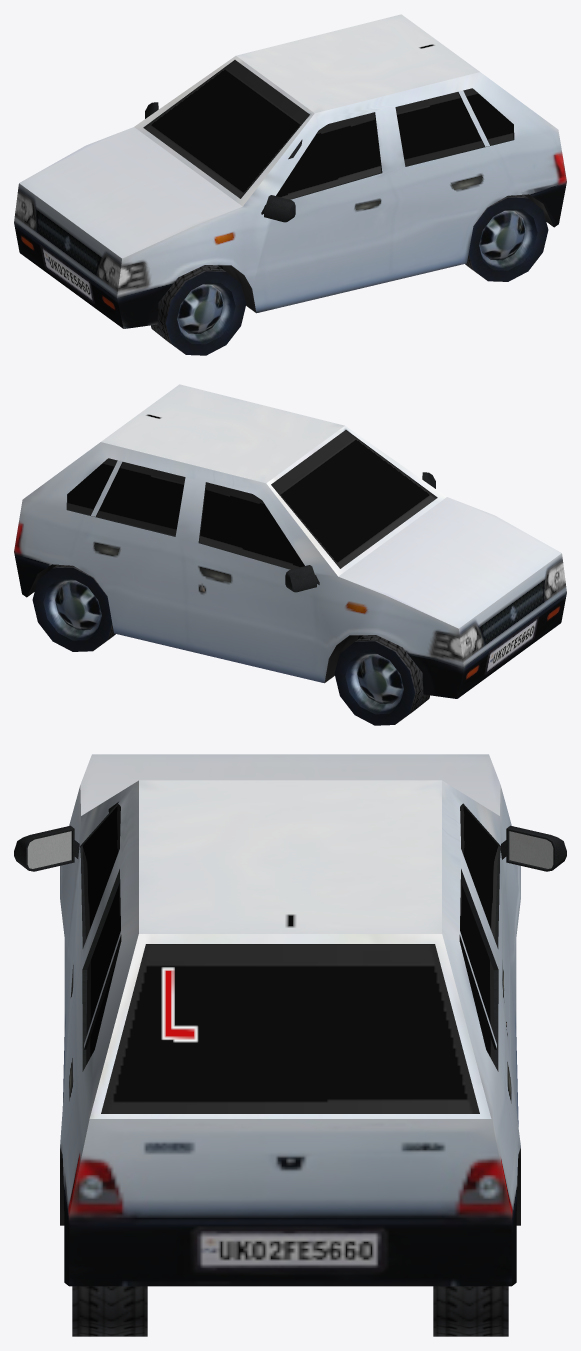
The model's file is car_main.fbx.
3 renders of one model, top to bottom at view 1: azimuth 30°, elevation 25°; view 2: azimuth 150°, elevation 25°; view 3: azimuth 270°, elevation 25°, orthographic. The views are drawn at different scales.
Visible parts, largest first — view 1: chasis, window, tire_fl, tire_bl, mirror; view 2: chasis, window, tire_fr, tire_br, mirror; view 3: chasis, window, mirror, tire_bl, tire_br.
Boxes of the visible parts, bbox=[...] form: chasis: bbox=[14, 14, 566, 328]; window: bbox=[144, 60, 513, 199]; tire_fl: bbox=[150, 265, 246, 355]; tire_bl: bbox=[465, 194, 548, 281]; mirror: bbox=[145, 102, 295, 222]; chasis: bbox=[14, 384, 566, 698]; window: bbox=[67, 430, 436, 569]; tire_fr: bbox=[334, 635, 430, 725]; tire_br: bbox=[32, 564, 115, 651]; mirror: bbox=[285, 472, 435, 592]; chasis: bbox=[60, 754, 520, 1286]; window: bbox=[82, 804, 498, 1113]; mirror: bbox=[14, 825, 566, 871]; tire_bl: bbox=[72, 1286, 147, 1336]; tire_br: bbox=[433, 1286, 508, 1336].
Size of the model in its own units: 275 by 118 by 154.
Materials: 8 (8 with a texture image).
